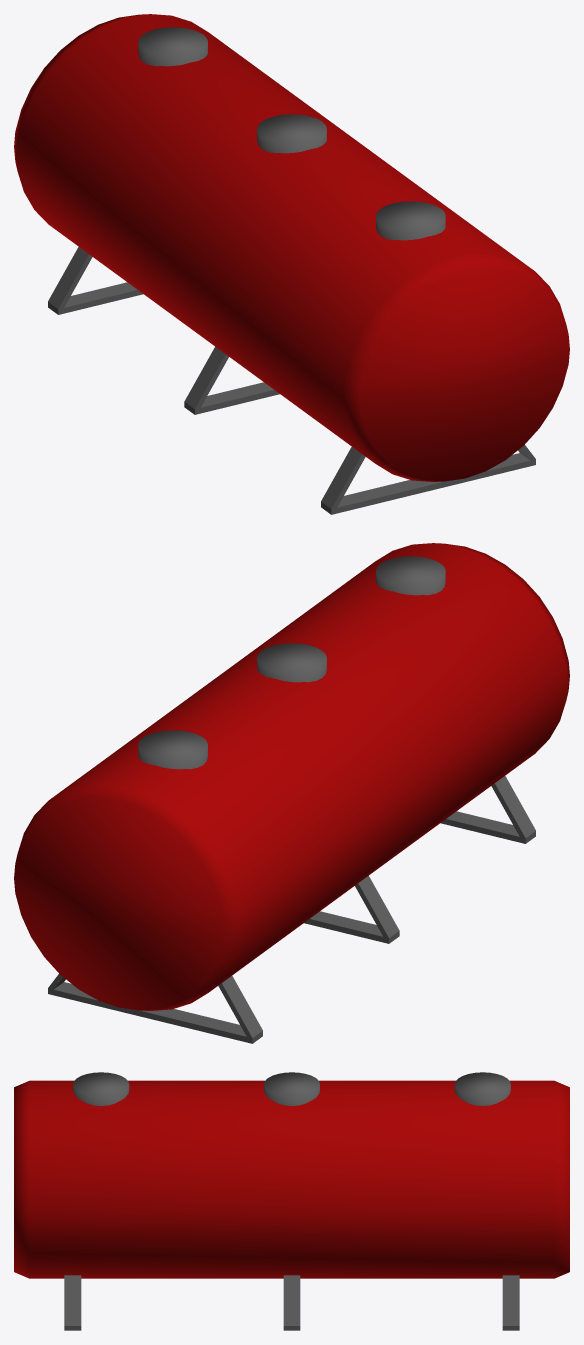
File: FuelTank.fbx
3 renders of one model, top to bottom at view 1: azimuth 30°, elevation 25°; view 2: azimuth 150°, elevation 25°; view 3: azimuth 270°, elevation 25°, orthographic. The views are drawn at different scales.
Parts seen in each view (by area): view 1: FuelTank; view 2: FuelTank; view 3: FuelTank.
Part boxes in pixels (x1,y1,x2,y2): FuelTank: (14, 14, 569, 514); FuelTank: (14, 543, 569, 1043); FuelTank: (14, 1072, 569, 1330).
Size of the model in its own units: 1.99 by 2.17 by 5.3.
